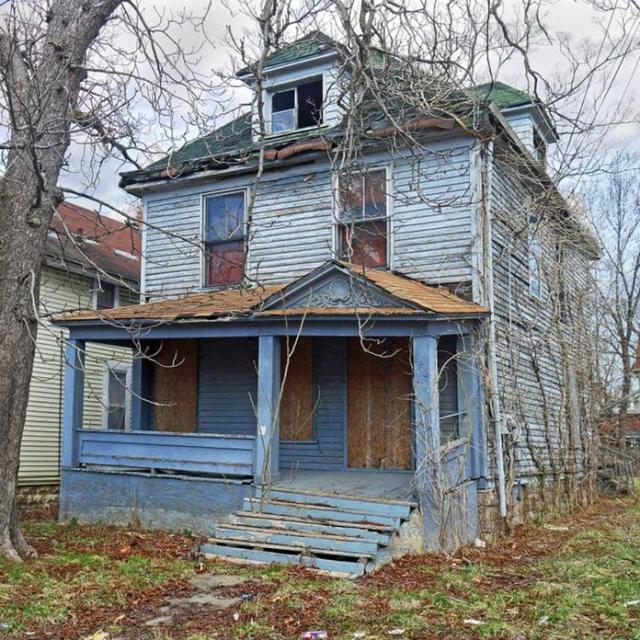House: (49, 31, 606, 580)
